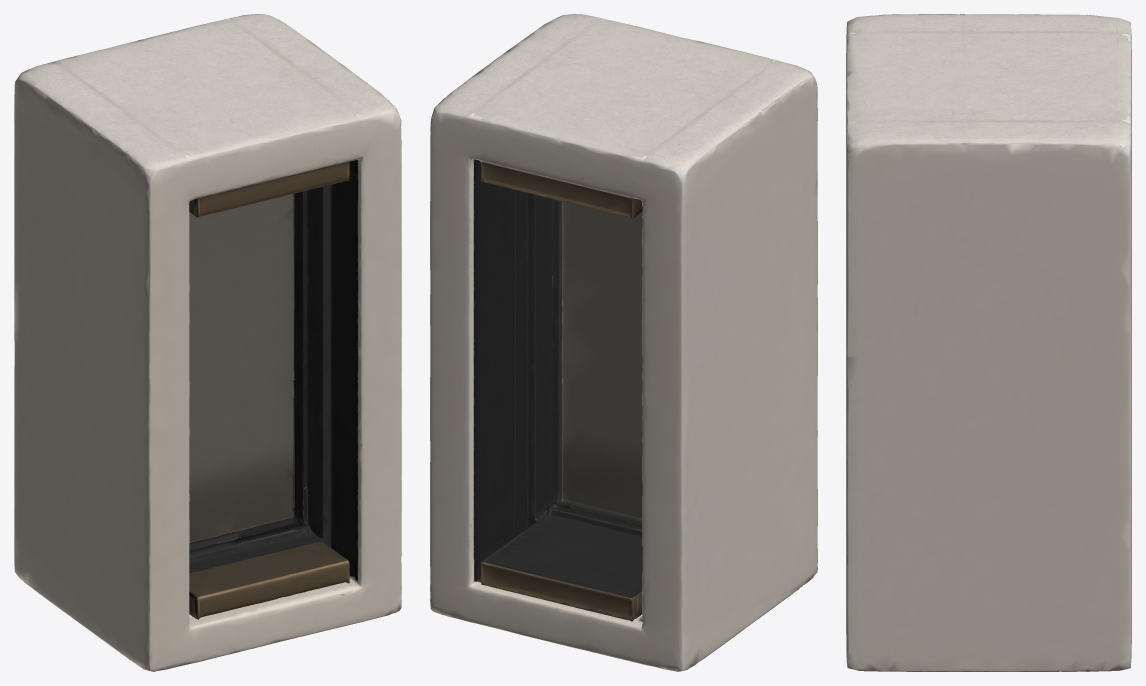
File: editorial-frame.glb
3 views of the same model, side by side, from view 1: azimuth 30°, elevation 25°; view 2: azimuth 150°, elevation 25°; view 3: azimuth 270°, elevation 25° (orthographic). The views are drawn at different scales.
Visible parts, largest first — view 1: Mesh_0; view 2: Mesh_0; view 3: Mesh_0.
Boxes of the visible parts, left/top/right/bottom form: Mesh_0: left=14, top=14, right=401, bottom=671; Mesh_0: left=430, top=14, right=817, bottom=671; Mesh_0: left=846, top=14, right=1131, bottom=671.
Bounding box in the file's own units: 0.9987 × 1.91 × 0.9309.
Materials: 1 (1 with a texture image).
